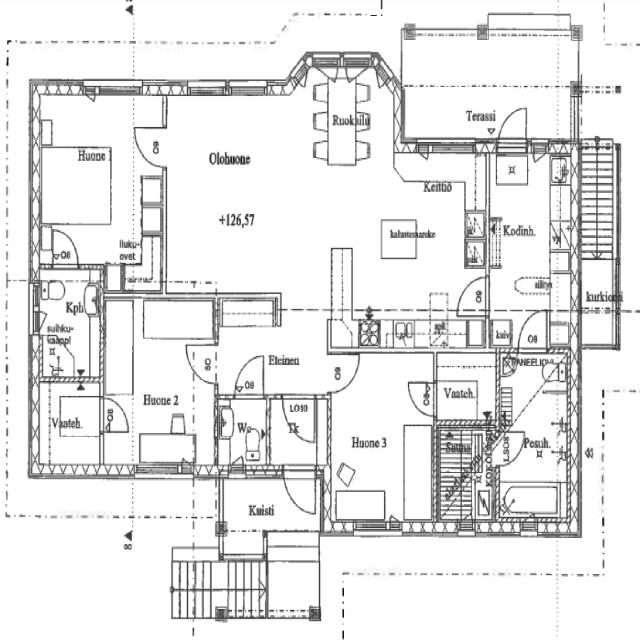door: (281, 461, 320, 520), (278, 392, 318, 448), (232, 350, 268, 397), (183, 339, 219, 384), (496, 103, 529, 152), (454, 273, 490, 316), (328, 349, 363, 393), (133, 124, 167, 168), (516, 308, 549, 353), (98, 393, 132, 435), (50, 225, 81, 268), (326, 314, 358, 352), (406, 378, 437, 417), (502, 429, 526, 466), (415, 139, 432, 164), (82, 81, 100, 104)
window: (428, 137, 476, 158), (92, 79, 140, 99), (136, 460, 184, 480), (227, 79, 269, 99), (242, 463, 284, 483), (350, 516, 387, 538), (187, 79, 228, 98), (473, 523, 498, 539)
zone: (160, 90, 396, 300), (32, 84, 164, 264), (102, 295, 215, 471), (327, 350, 436, 531), (486, 152, 571, 311), (491, 431, 573, 534), (35, 266, 102, 379), (31, 378, 103, 476), (498, 351, 570, 448), (432, 350, 500, 426), (437, 423, 482, 525), (216, 395, 272, 474), (454, 273, 489, 316)
